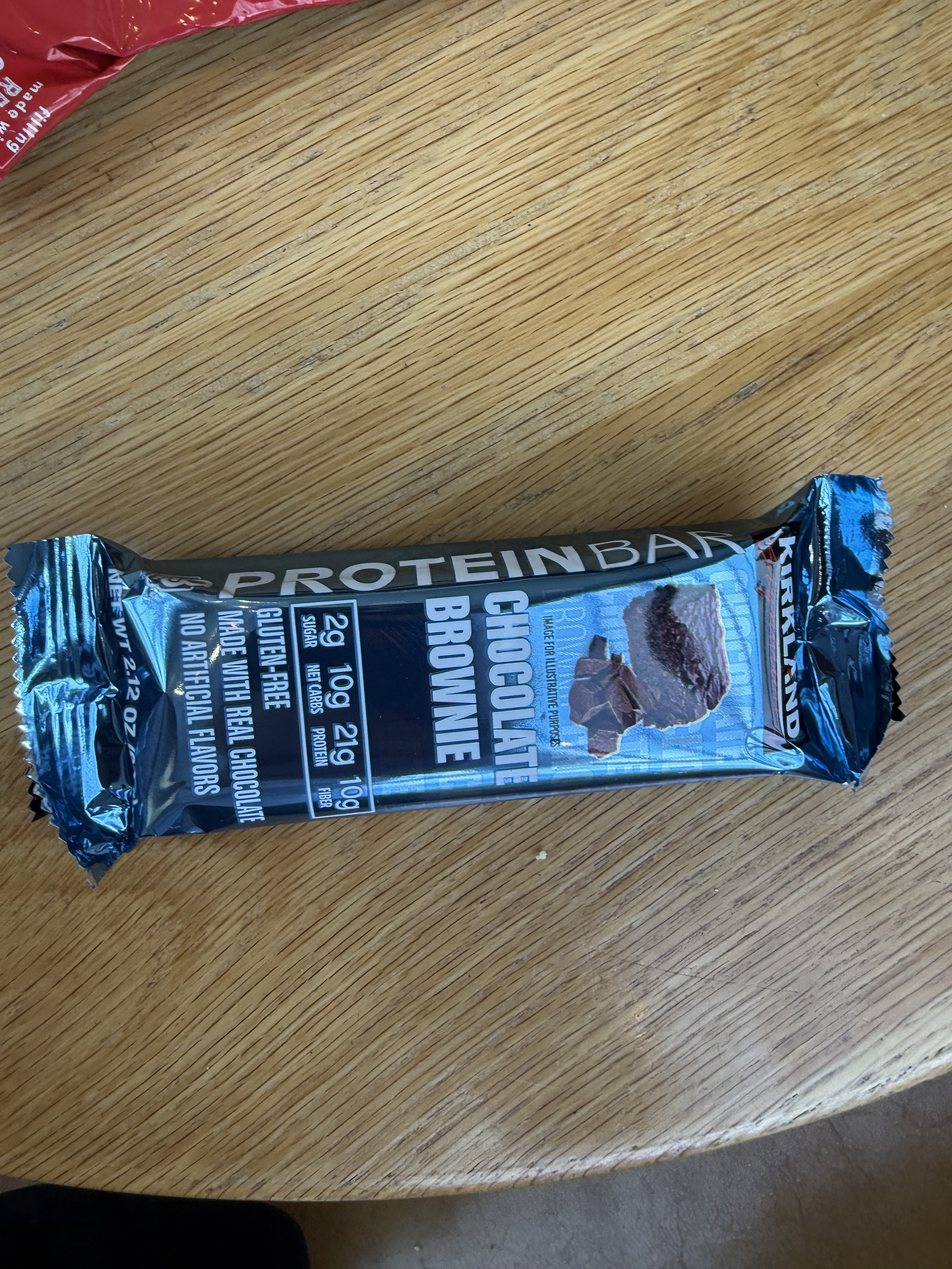chocolate_brownie: (0, 572, 905, 843)
